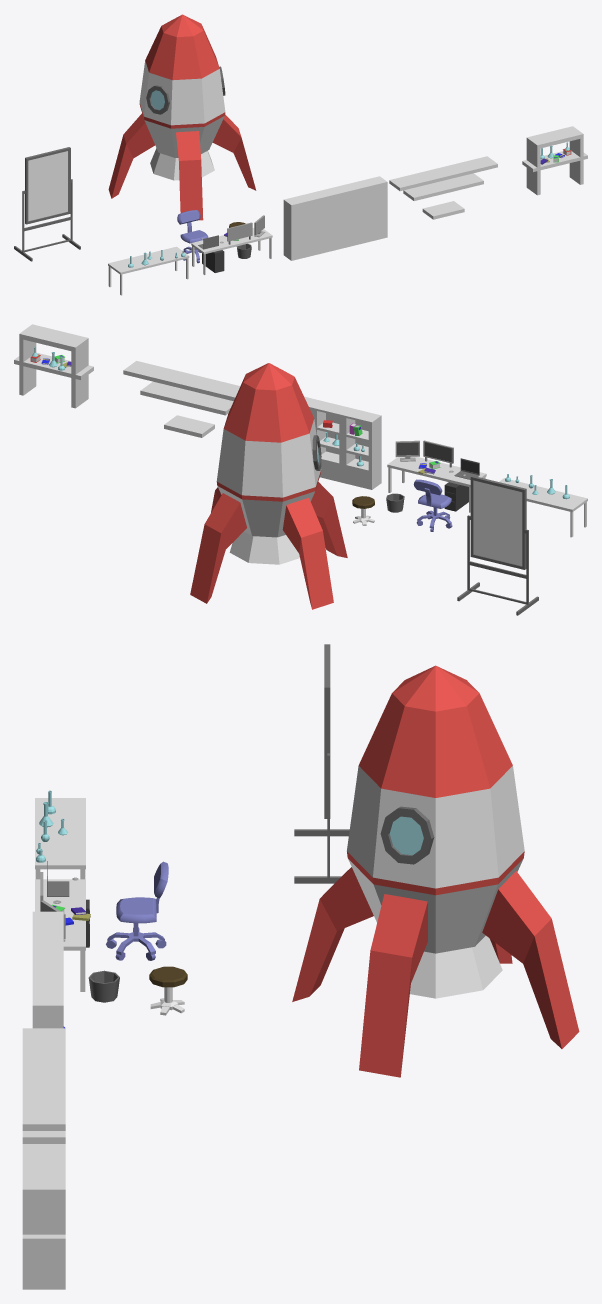
Rendered from Environmentassets_part2.fbx.
3 renders of one model, top to bottom at view 1: azimuth 30°, elevation 25°; view 2: azimuth 150°, elevation 25°; view 3: azimuth 270°, elevation 25°, orthographic. The views are drawn at different scales.
Parts seen in each view (by area): view 1: Rocket, Schrank, Whiteboard, Regalplatte_normal.001, Regalplatte_lange, Tisch, Regalplatte_normal, Tisch_2, Buerostuhl, Regalplatte_kurz, PC, Monitor_gross; view 2: Rocket, Whiteboard, Schrank, Regalplatte_normal.001, Regalplatte_lange, Regalplatte_normal, Tisch_2, Tisch, Buerostuhl, Regalplatte_kurz, PC, Monitor_gross (+2 smaller); view 3: Rocket, Regalplatte_normal.001, Regalplatte_lange, Schrank, Tisch, Buerostuhl, Whiteboard, Tisch_2, Hocker, Trashbin.
Part boxes in pixels (bbox=[...]): Rocket: bbox=[108, 14, 256, 220]; Schrank: bbox=[283, 176, 387, 260]; Whiteboard: bbox=[14, 147, 80, 261]; Regalplatte_normal.001: bbox=[522, 126, 587, 195]; Regalplatte_lange: bbox=[389, 156, 497, 191]; Tisch: bbox=[108, 246, 189, 295]; Regalplatte_normal: bbox=[403, 173, 483, 200]; Tisch_2: bbox=[191, 228, 272, 274]; Buerostuhl: bbox=[177, 210, 208, 263]; Regalplatte_kurz: bbox=[422, 201, 464, 219]; PC: bbox=[202, 250, 224, 272]; Monitor_gross: bbox=[227, 222, 252, 244]; Rocket: bbox=[190, 363, 347, 609]; Whiteboard: bbox=[457, 475, 538, 615]; Schrank: bbox=[304, 396, 381, 489]; Regalplatte_normal.001: bbox=[14, 324, 93, 408]; Regalplatte_lange: bbox=[123, 361, 240, 401]; Regalplatte_normal: bbox=[140, 381, 233, 415]; Tisch_2: bbox=[387, 456, 486, 512]; Tisch: bbox=[499, 478, 587, 537]; Buerostuhl: bbox=[413, 479, 452, 531]; Regalplatte_kurz: bbox=[164, 415, 214, 437]; PC: bbox=[444, 482, 468, 511]; Monitor_gross: bbox=[423, 440, 453, 467]; Rocket: bbox=[292, 665, 579, 1077]; Regalplatte_normal.001: bbox=[22, 1144, 65, 1289]; Regalplatte_lange: bbox=[22, 1028, 65, 1130]; Schrank: bbox=[32, 911, 63, 1028]; Tisch: bbox=[35, 798, 85, 879]; Buerostuhl: bbox=[106, 861, 168, 960]; Whiteboard: bbox=[294, 644, 349, 883]; Tisch_2: bbox=[35, 879, 85, 991]; Hocker: bbox=[149, 966, 187, 1015]; Trashbin: bbox=[88, 970, 119, 1002].
Bounding box in the file's own units: 35248 × 12170 × 17386.
